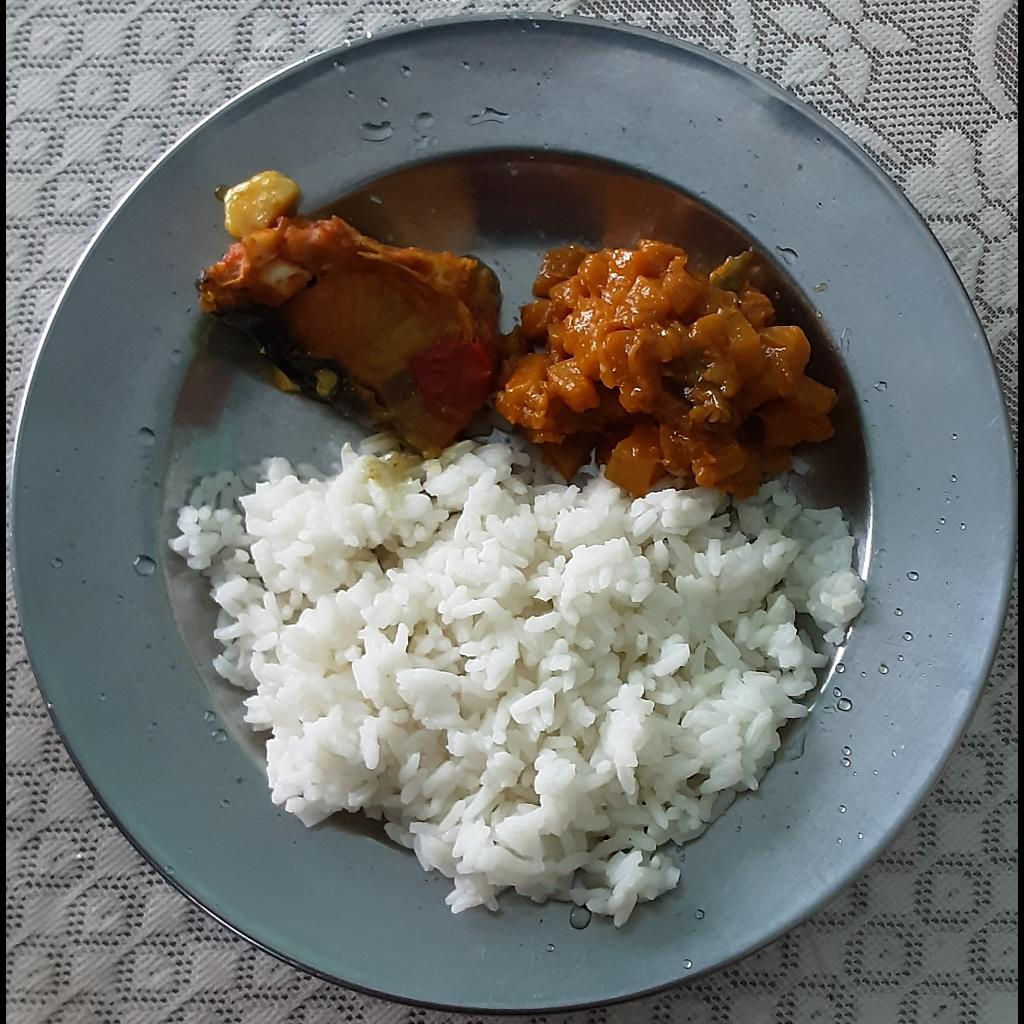fish: (196, 166, 507, 450)
kumra-vaji: (491, 237, 851, 494)
rice: (169, 429, 870, 929)
tomato: (408, 331, 497, 420)
